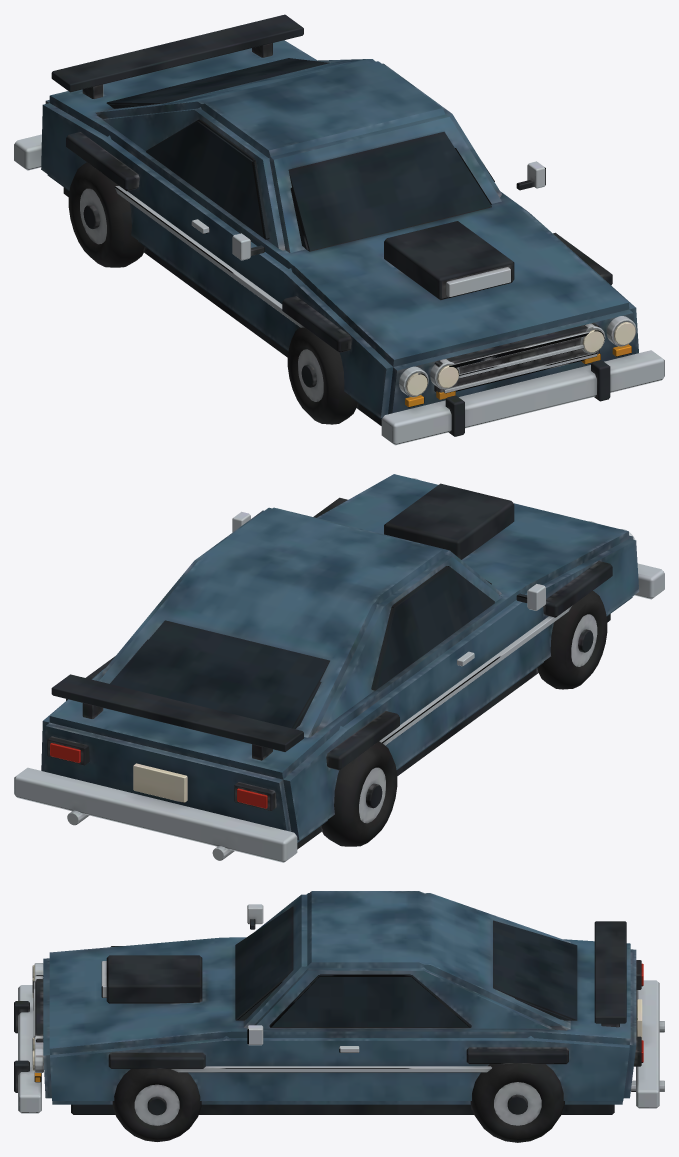
Rendered from car_coupe_muscle.glb.
3 views of the same model, one above another, from view 1: azimuth 30°, elevation 25°; view 2: azimuth 150°, elevation 25°; view 3: azimuth 270°, elevation 25° (orthographic). The views are drawn at different scales.
Parts seen in each view (by area): view 1: CarCoupeMuscle; view 2: CarCoupeMuscle; view 3: CarCoupeMuscle.
Boxes of the visible parts, bbox=[...] form: CarCoupeMuscle: bbox=[14, 14, 664, 445]; CarCoupeMuscle: bbox=[14, 474, 664, 862]; CarCoupeMuscle: bbox=[14, 891, 664, 1142].
Bounding box in the file's own units: 2.24 × 1.36 × 4.91.
Materials: 1 (1 with a texture image).
